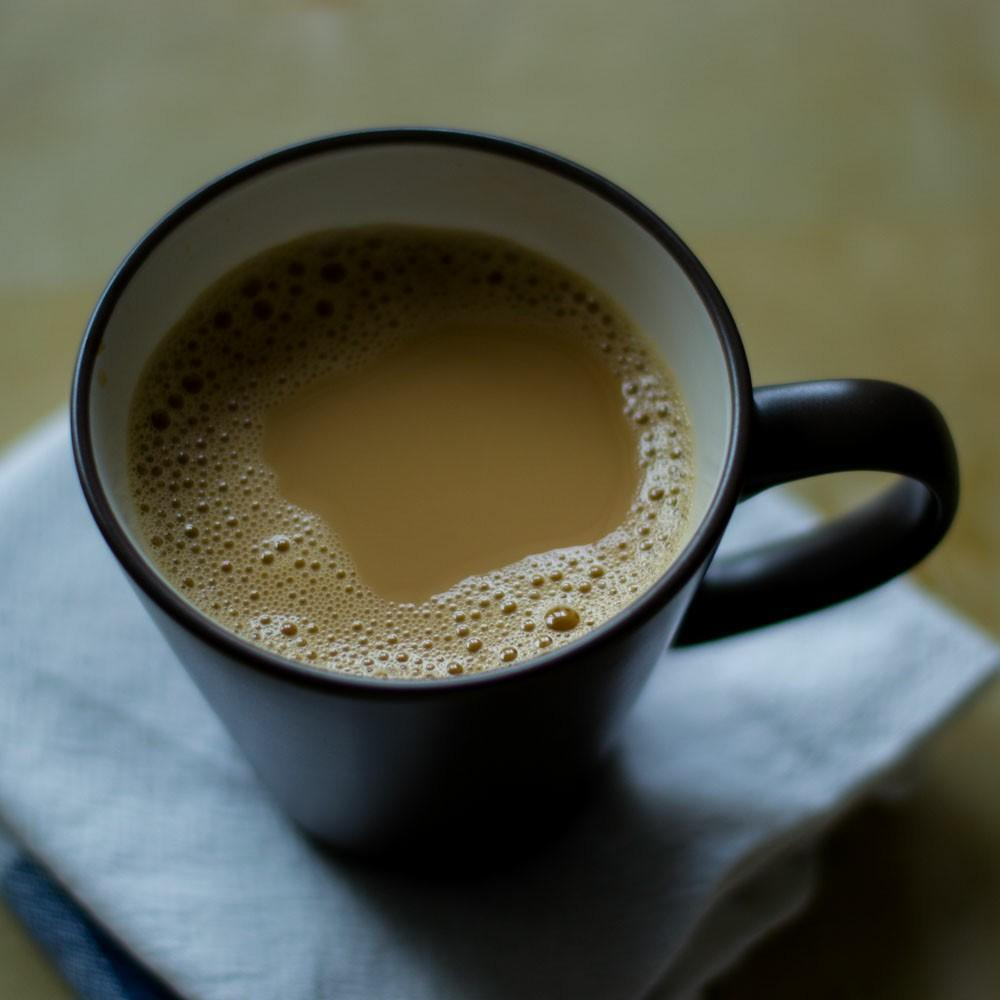Chai: (131, 231, 698, 682)
